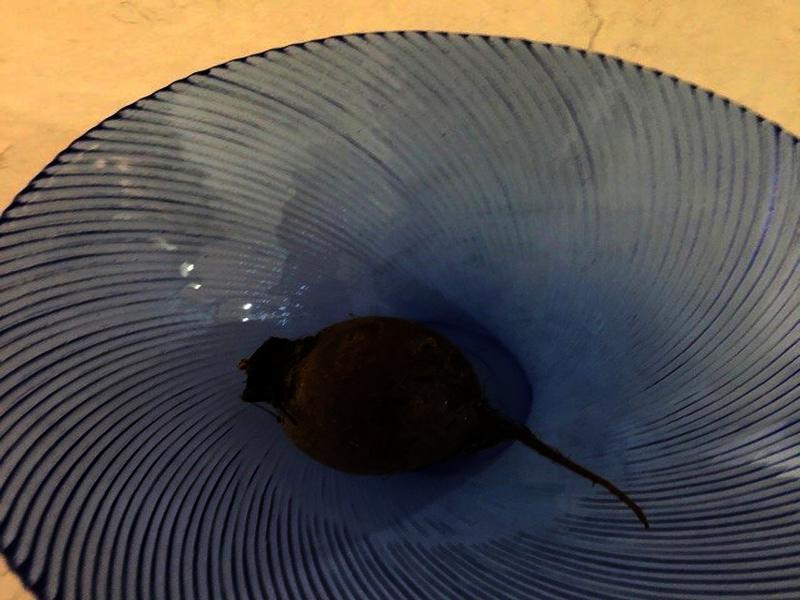Beet: (242, 319, 648, 527)
